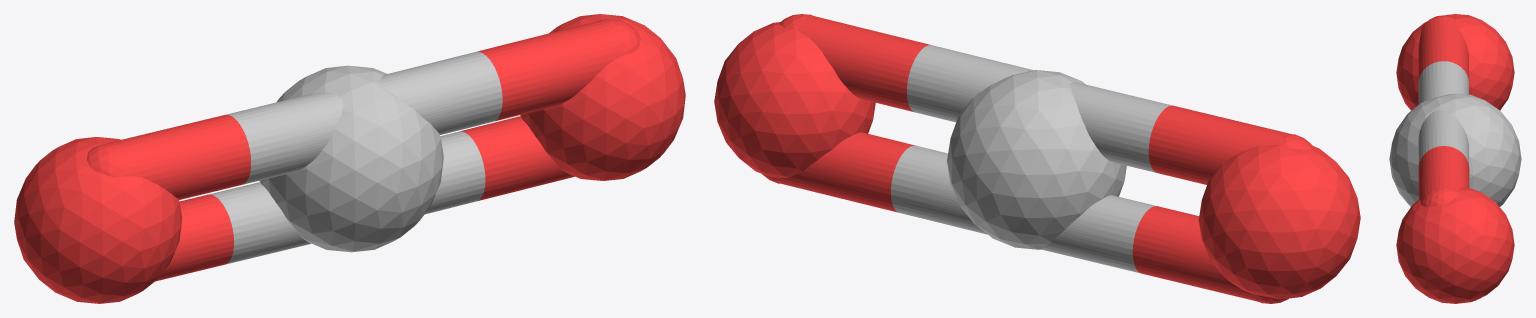
The picture shows the model from 3 angles, left to right: view 1: azimuth 30°, elevation 25°; view 2: azimuth 150°, elevation 25°; view 3: azimuth 270°, elevation 25°; orthographic projection. The views are drawn at different scales.
Parts seen in each view (by area): view 1: Shape_IndexedFaceSet.002; view 2: Shape_IndexedFaceSet.002; view 3: Shape_IndexedFaceSet.002.
Boxes of the visible parts, x1,y1,x2,y2 form: Shape_IndexedFaceSet.002: [14, 14, 685, 303]; Shape_IndexedFaceSet.002: [714, 14, 1360, 303]; Shape_IndexedFaceSet.002: [1389, 14, 1521, 303].
Bounding box in the file's own units: 1.99 × 0.5 × 0.5.
